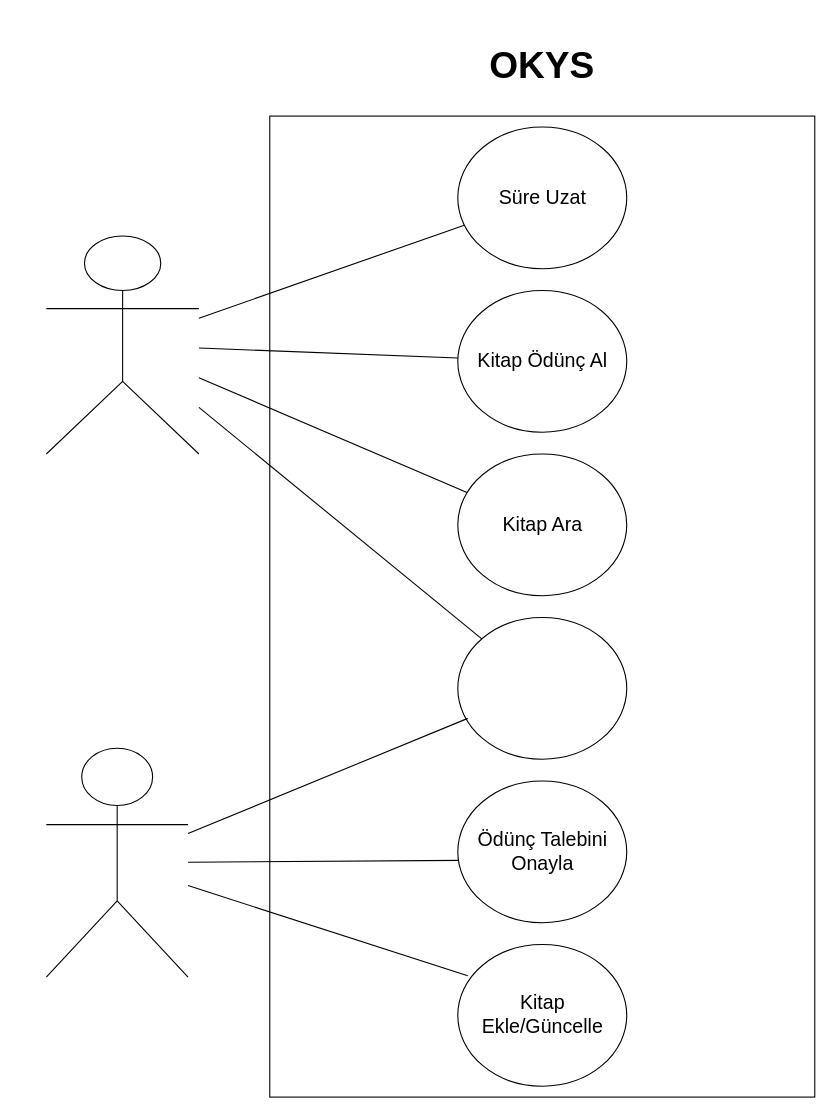
Some shapes in this 834 by 1116 pixel diagram are drawn without their labels. The shapes that lost their labels are listed below. From the top down, each one's box as (x1, y1, x2, y2) in pixels, then its label:
(45, 235, 199, 454): Üye
(457, 616, 627, 759): Sisteme Giriş Yap
(45, 747, 188, 977): Kütüphane Görevlisi
